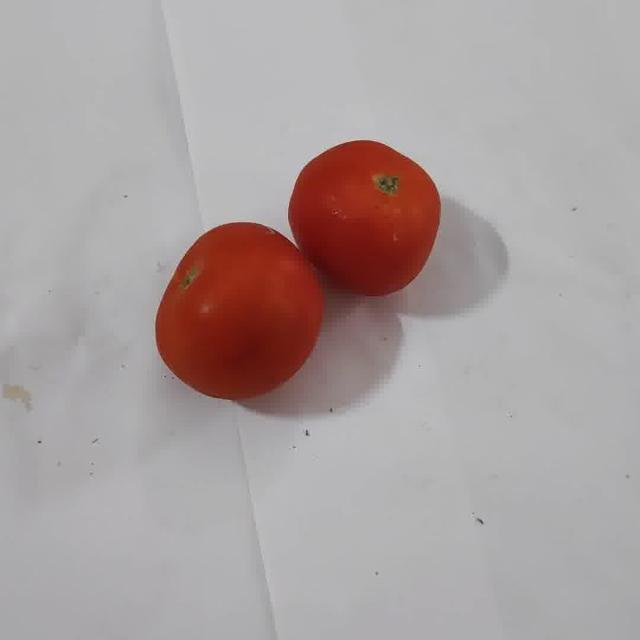Tomato: (155, 223, 322, 401), (288, 140, 440, 295)
